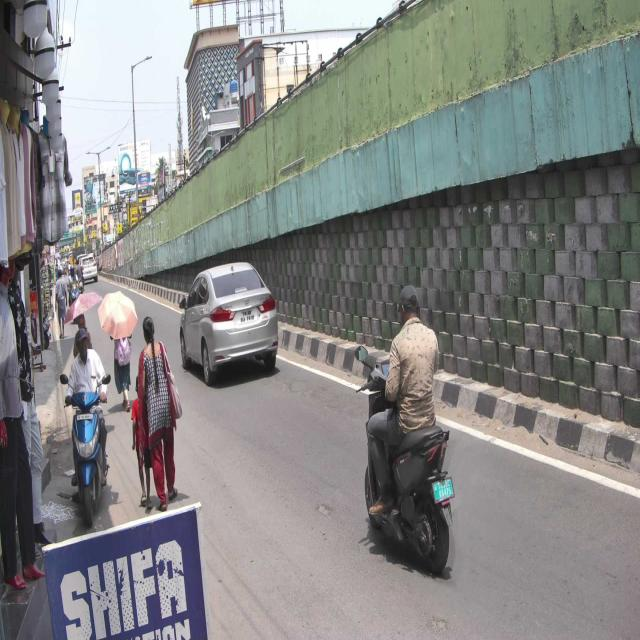single_rider: (352, 281, 453, 578), (61, 330, 111, 528)
